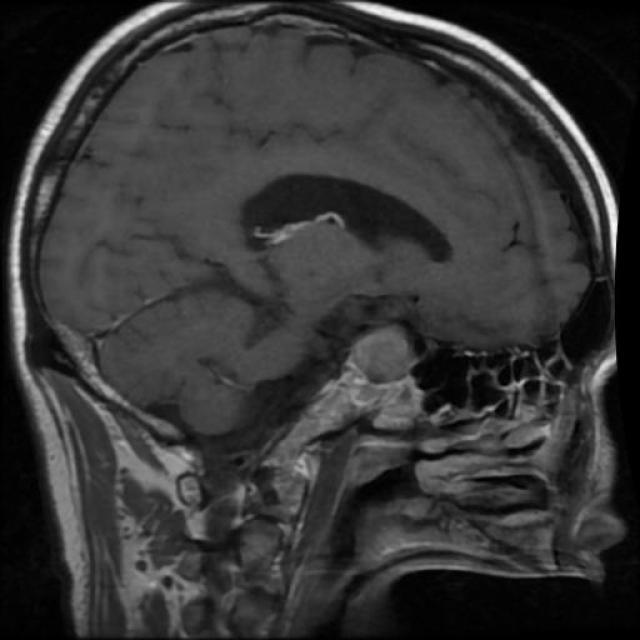pituitary: (348, 320, 421, 388)
